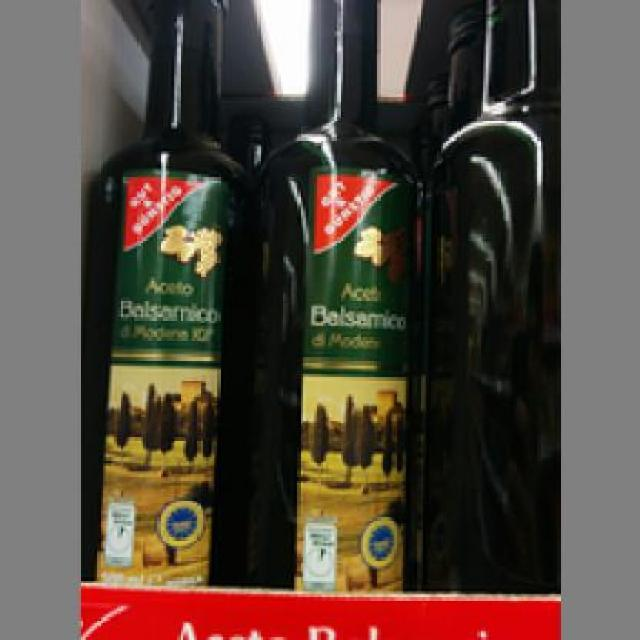Vinegar: (256, 0, 429, 592), (80, 0, 251, 580)
